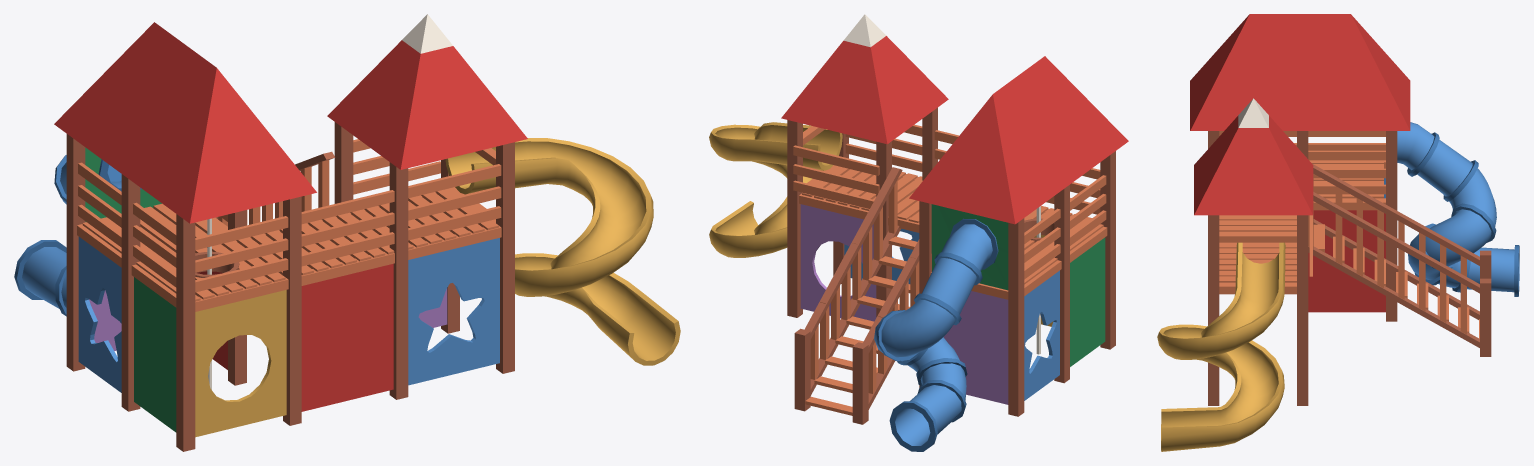
Rendered from Castle_04.fbx.
3 views of the same model, side by side, from view 1: azimuth 30°, elevation 25°; view 2: azimuth 150°, elevation 25°; view 3: azimuth 270°, elevation 25° (orthographic). The views are drawn at different scales.
Parts seen in each view (by area): view 1: Castle_04; view 2: Castle_04; view 3: Castle_04.
Boxes of the visible parts, x1=… form: Castle_04: x1=14, y1=14, x2=680, y2=451; Castle_04: x1=709, y1=14, x2=1128, y2=451; Castle_04: x1=1157, y1=14, x2=1519, y2=451.
Bounding box in the file's own units: 6.27 × 4.44 × 5.13.
